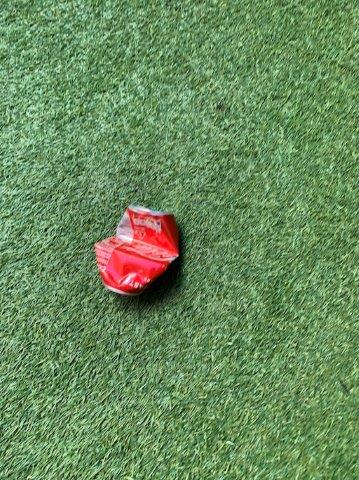kaleng: (97, 205, 178, 294)
